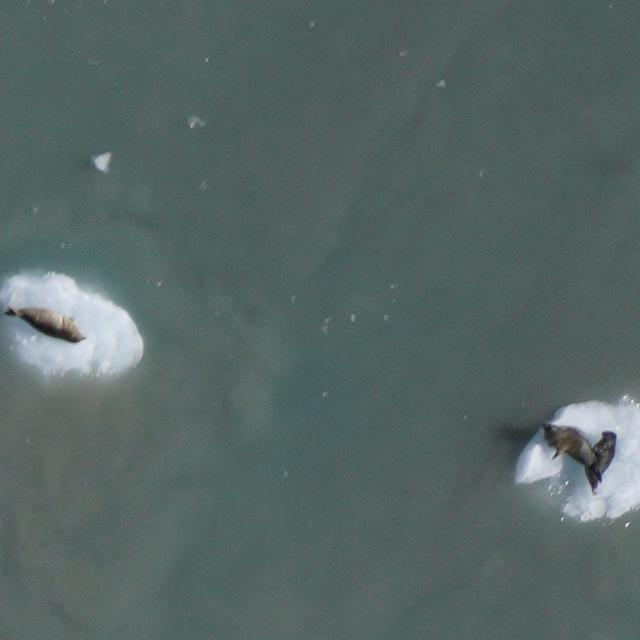seal: (530, 412, 619, 495), (572, 427, 626, 499)
